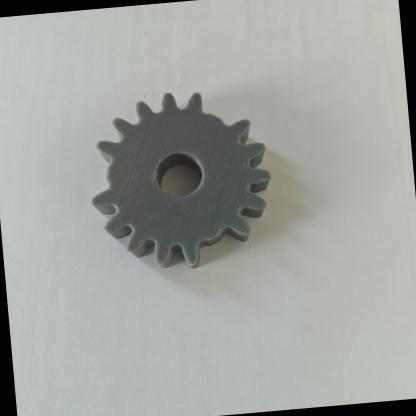defect: (61, 126, 152, 216), (166, 91, 264, 165), (179, 218, 268, 292)
gear: (53, 72, 310, 309)
